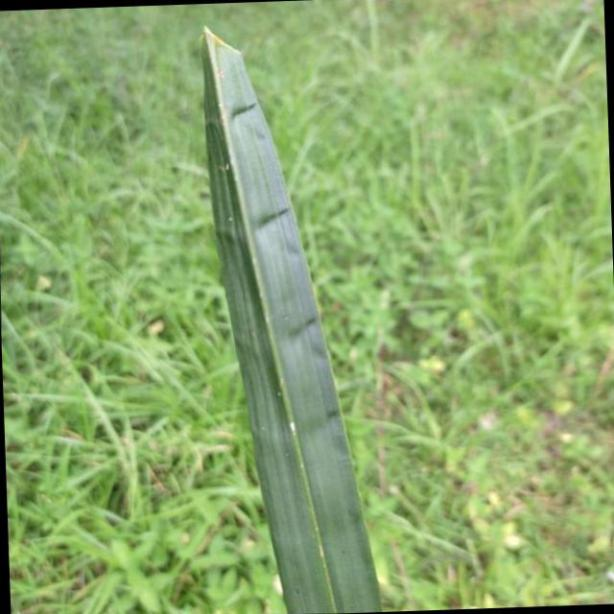Boron: (190, 24, 384, 614)
